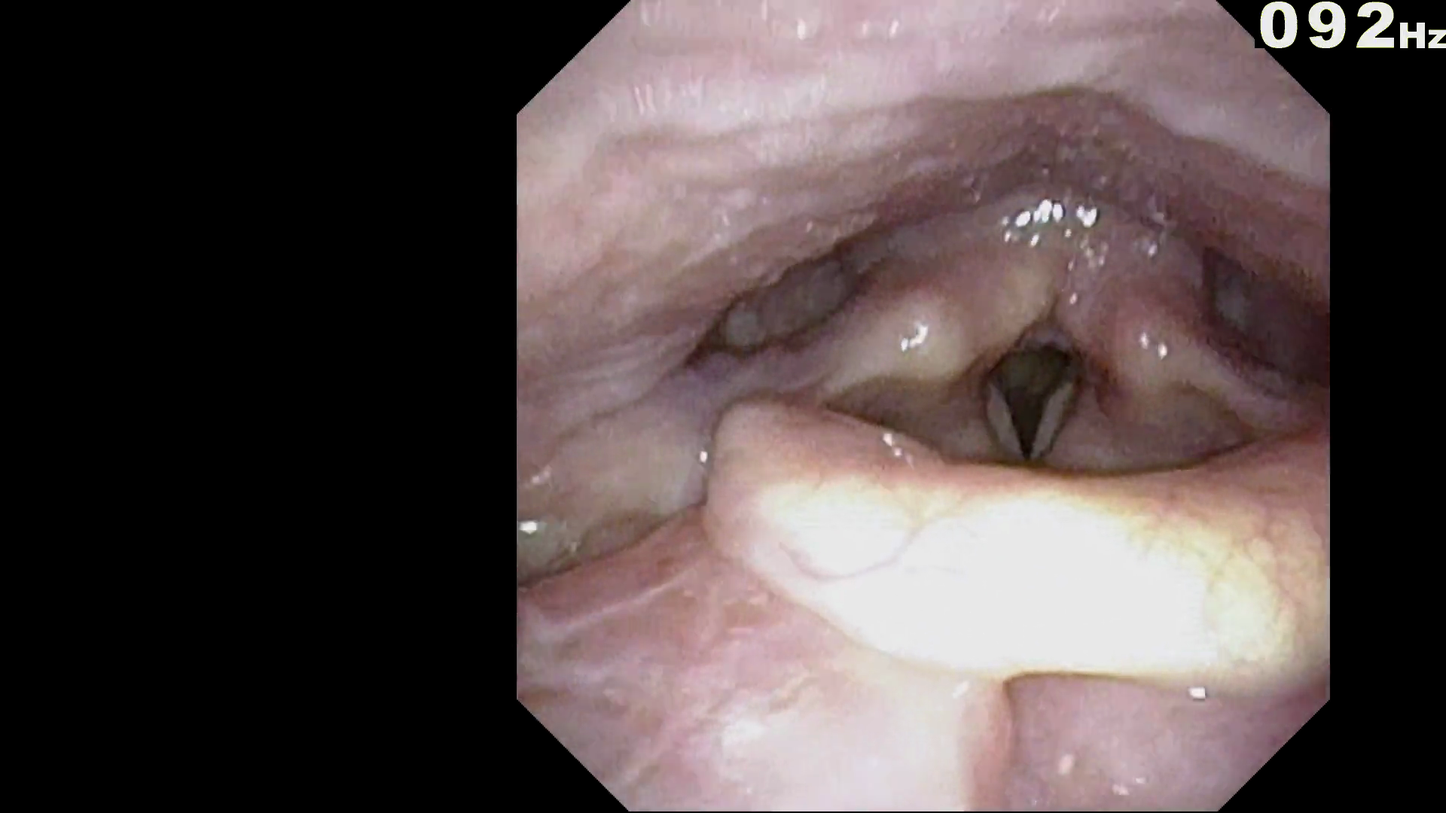epiglottis: (684, 361, 1328, 669)
trachea: (935, 282, 1115, 493)
